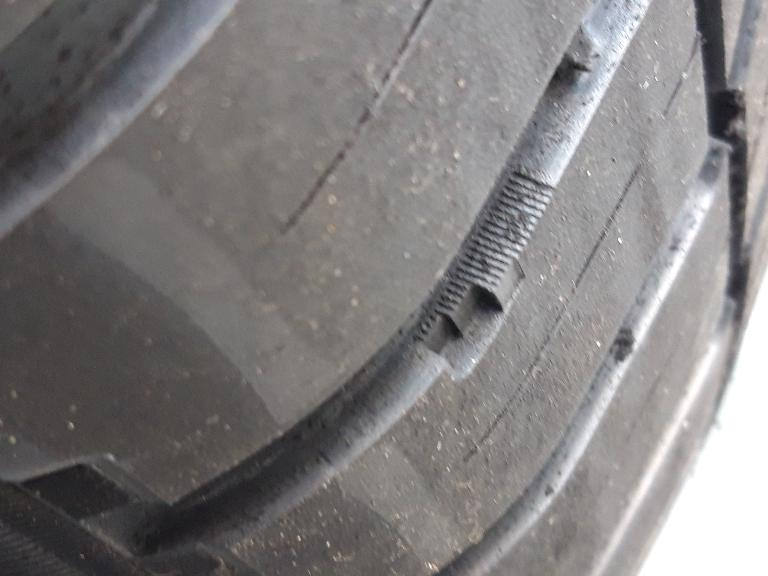temoin:50: (402, 242, 532, 388)
